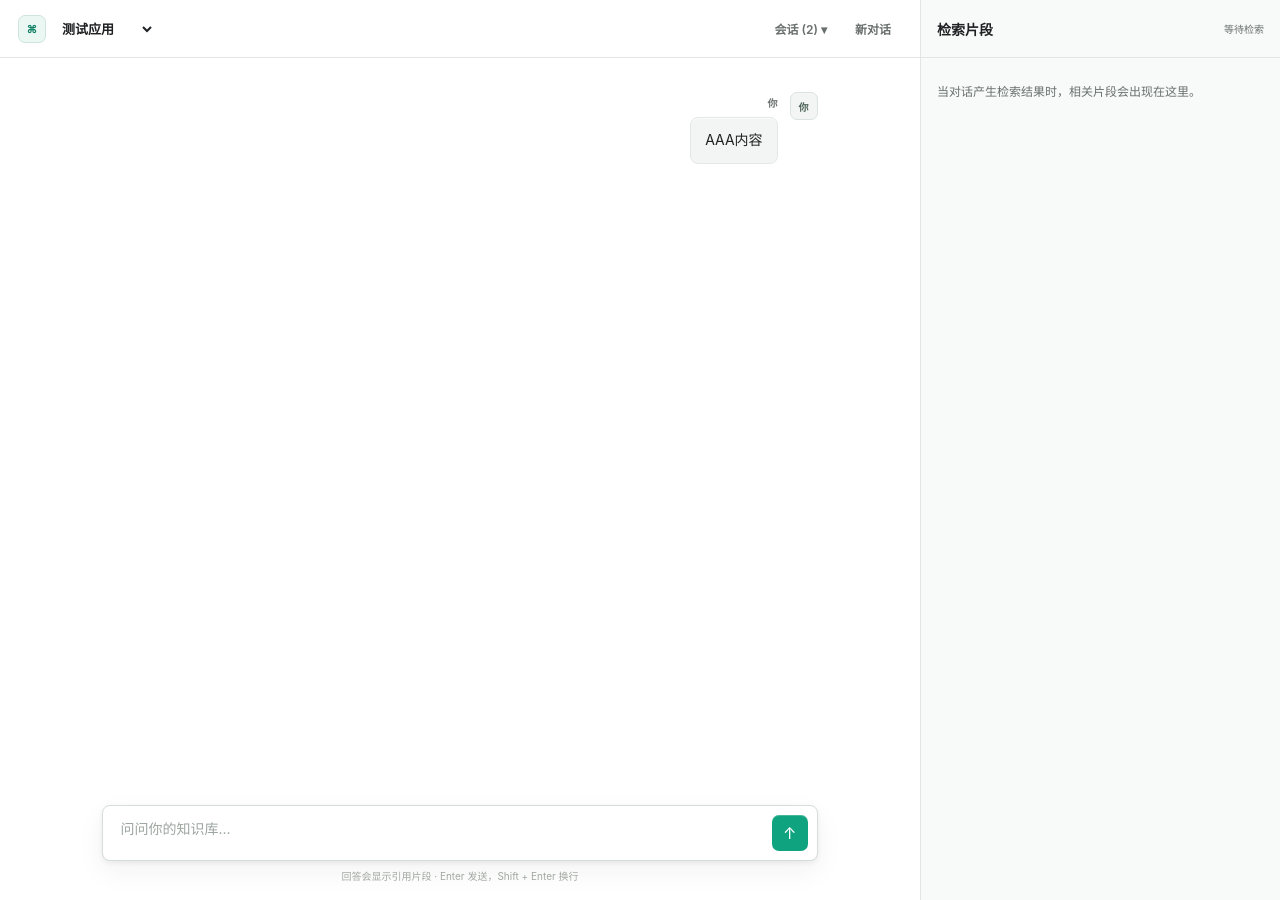
Test case: ChatView conversation list › deletes a conversation from the list and its stored messages
What coordinates should you click on to do the following:
click the button with aria-label "会话列表"
I would click on:
 (801, 28)
Its box is top-left (764, 12), bottom-right (838, 46).
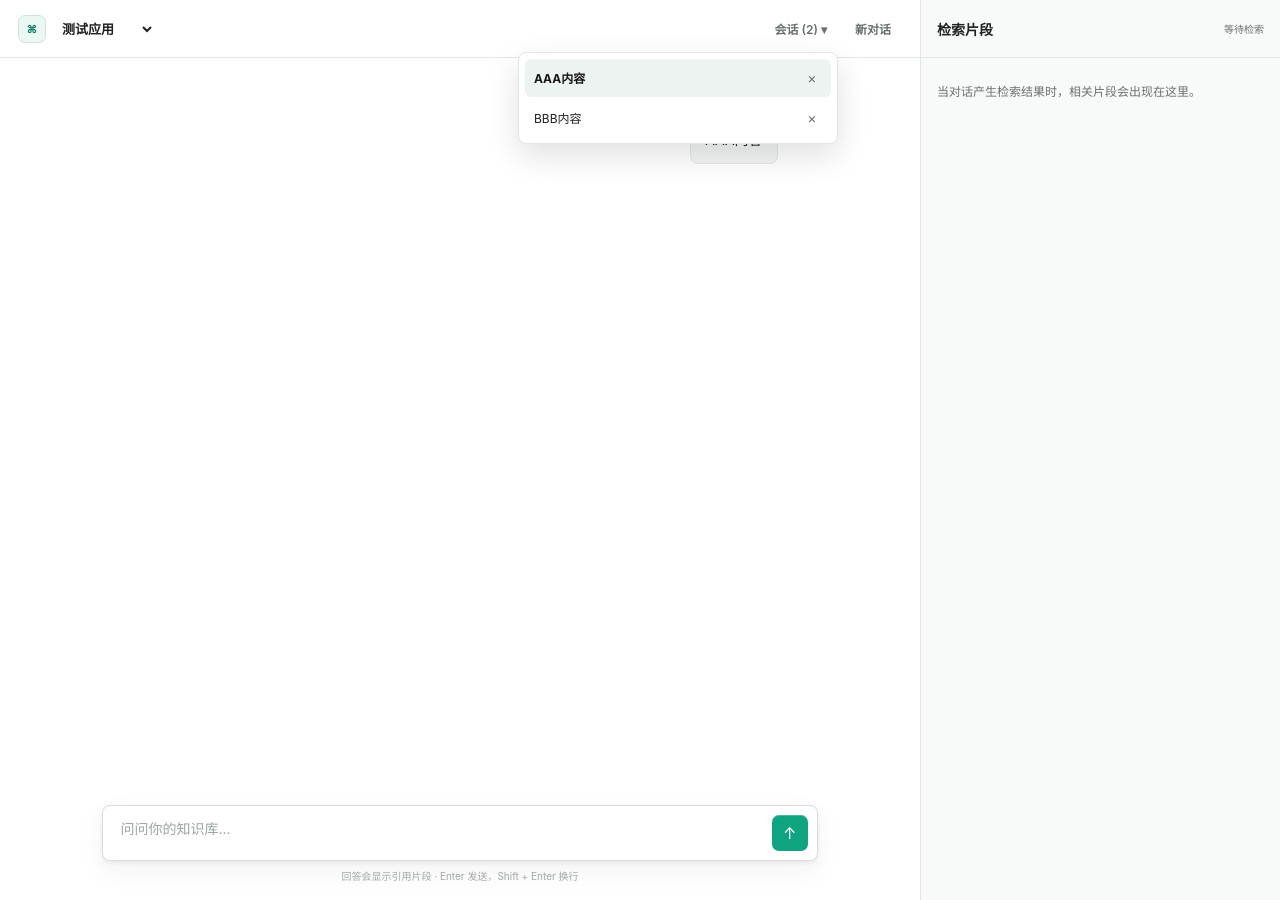
What coordinates should you click on to do the following:
click the 2nd button with class "conv-del"
I would click on:
 (812, 118)
Its box is top-left (802, 108), bottom-right (822, 128).
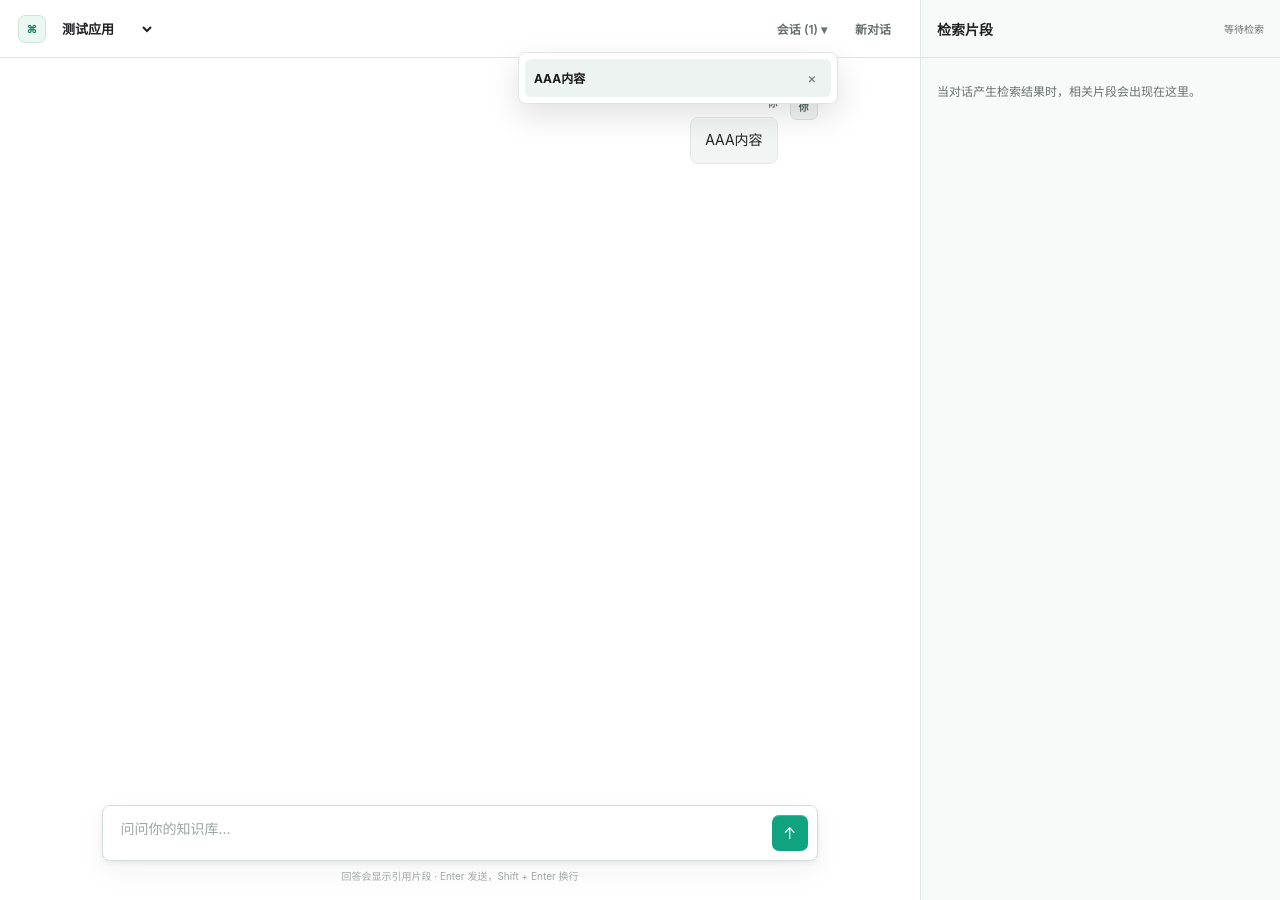
Check: the button with class "conv-popover" no longer shows "BBB内容"
